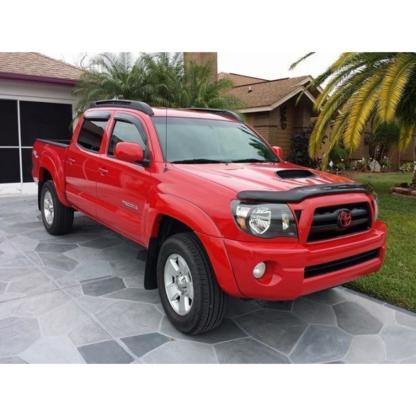Car: (30, 96, 389, 334)
Truck: (22, 98, 392, 328)
